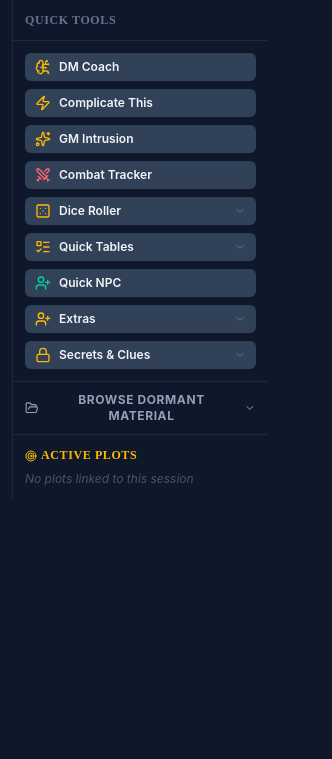
Scenario: one button, nothing to type › never asks the DM to write anything, before or after generating
The width and height of the screenshot is (332, 759).
Step 1. Click the button "Complicate This" → (140, 103), box [25,89,256,117]
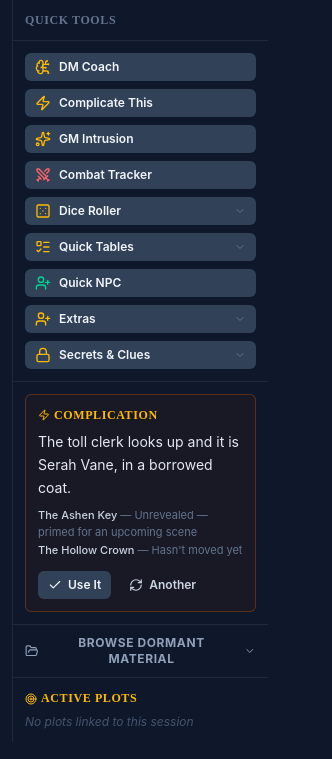
Result: the text "The toll clerk looks up and it is Serah Vane, in a borrowed coat." is shown at [38,431,243,499]
